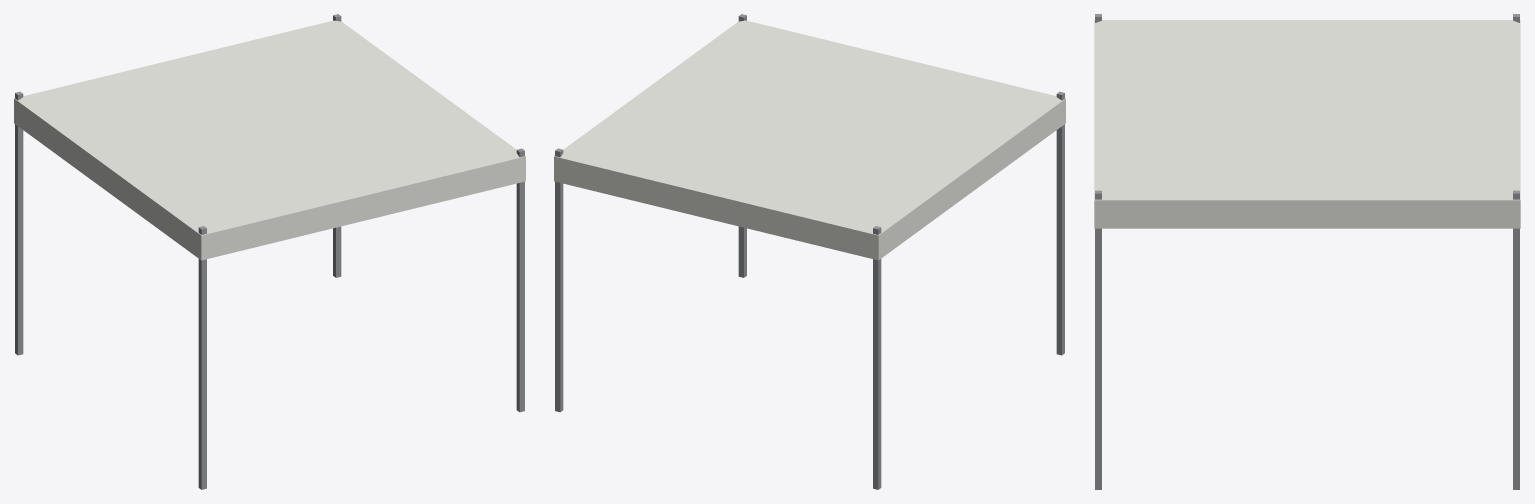
File: canopy_white.dae
The picture shows the model from 3 angles, left to right: view 1: azimuth 30°, elevation 25°; view 2: azimuth 150°, elevation 25°; view 3: azimuth 270°, elevation 25°; orthographic projection. The views are drawn at different scales.
Visible parts, largest first — view 1: marker; view 2: marker; view 3: marker.
Boxes of the visible parts, left/top/right/bottom form: marker: left=14, top=14, right=525, bottom=489; marker: left=554, top=14, right=1065, bottom=489; marker: left=1094, top=14, right=1520, bottom=489.
Bounding box in the file's own units: 3 × 3 × 2.85.
1 material, 1 textured.
